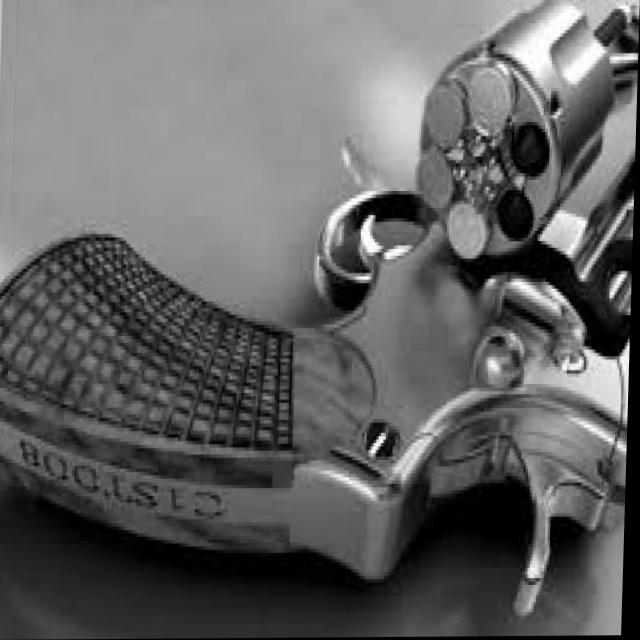handgun: (0, 0, 640, 626)
